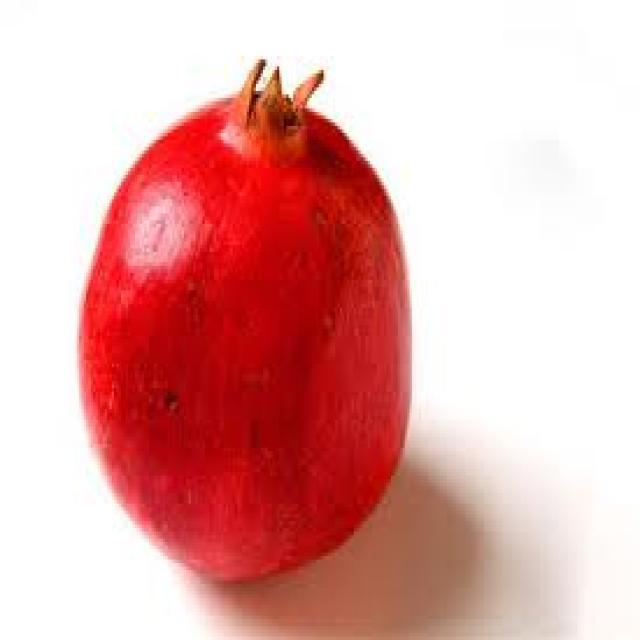Pomegranate: (39, 25, 433, 612)
